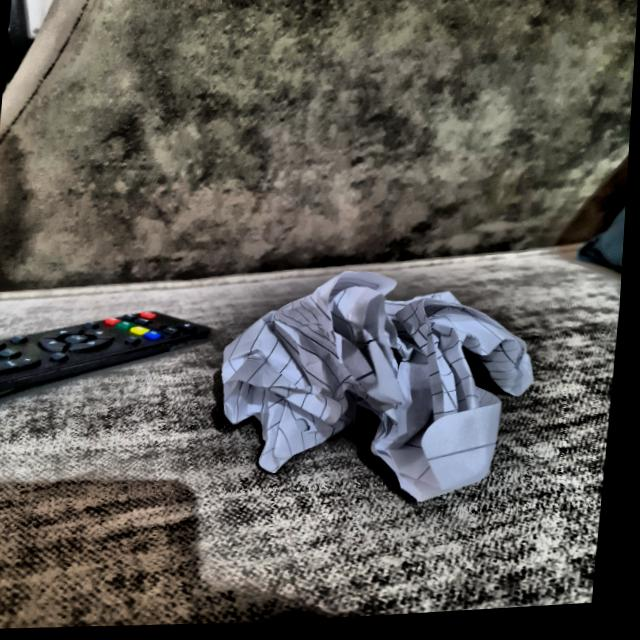Paper: (224, 269, 540, 512)
